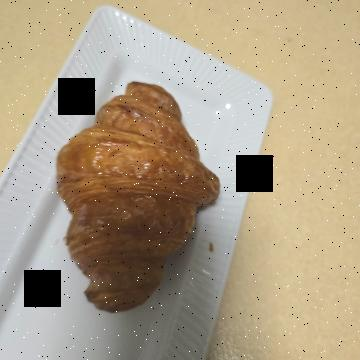croissant: (69, 126, 325, 304)
